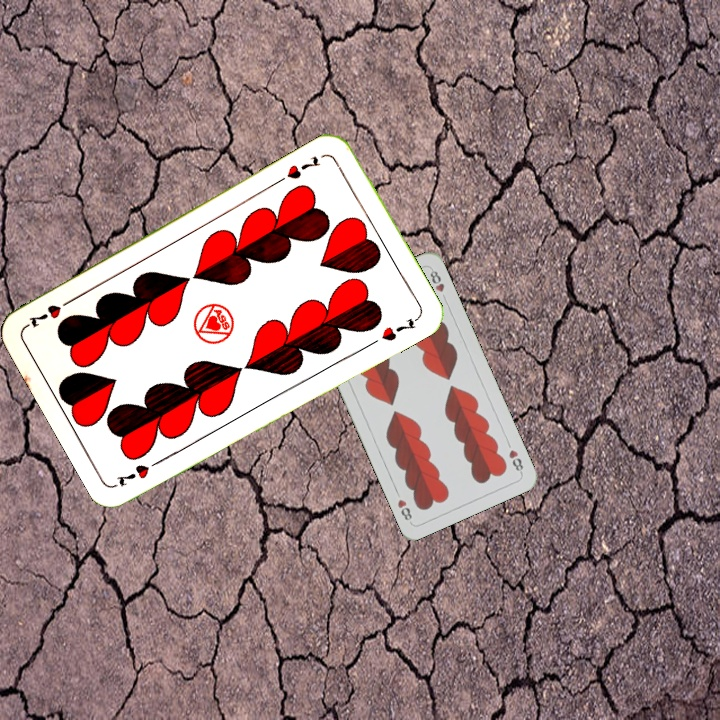H7: (112, 454, 166, 490), (273, 151, 324, 186)
H8: (505, 445, 526, 476)
